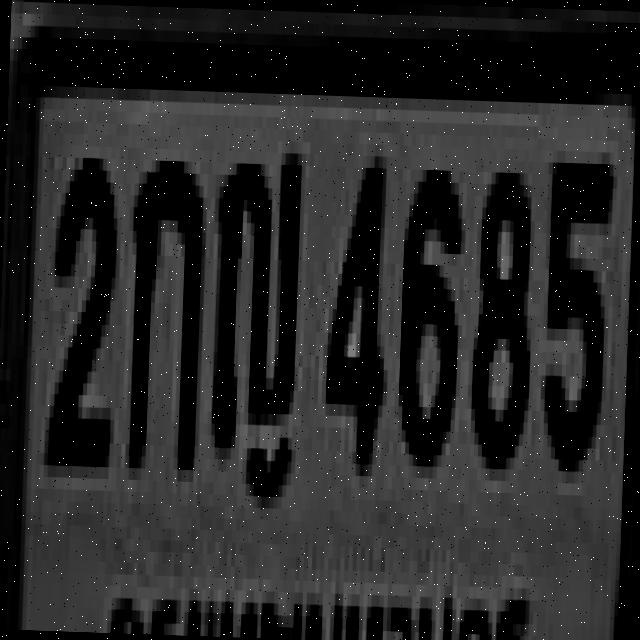10GorGai: (120, 148, 200, 458)
2: (44, 144, 116, 454)
22YorYing: (206, 138, 298, 450)
4: (319, 142, 387, 464)
5: (538, 150, 610, 460)
6: (392, 156, 460, 454)
8: (465, 159, 532, 457)
Bangkok: (92, 559, 548, 640)
